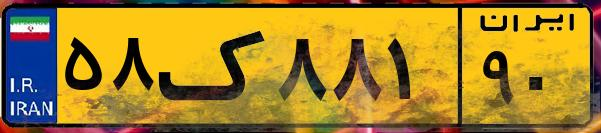0: (525, 38, 570, 115)
1: (385, 28, 445, 110)
5: (57, 26, 110, 100)
8: (270, 28, 330, 110), (330, 28, 385, 110), (110, 28, 158, 98)
9: (475, 38, 525, 113)
ک: (158, 12, 270, 120)
